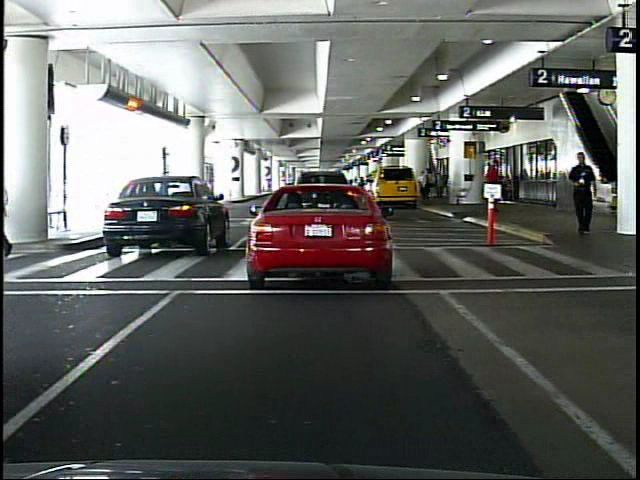person: (569, 151, 598, 239), (481, 160, 504, 215), (418, 165, 431, 202), (5, 173, 7, 259)
